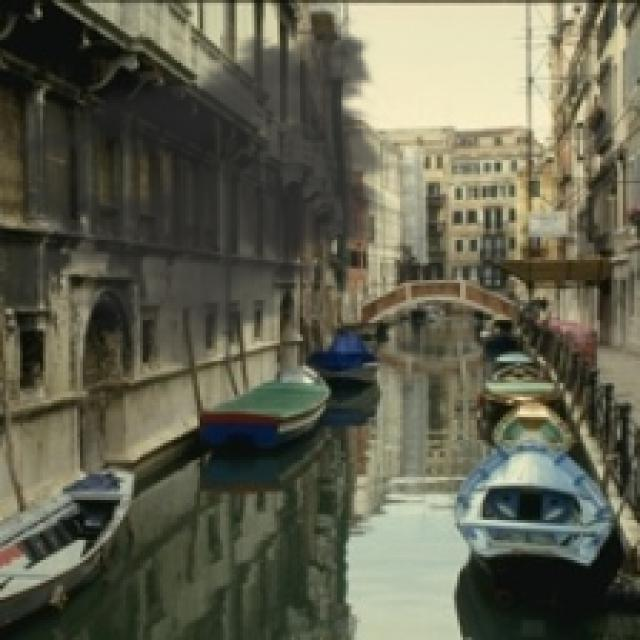Smoke: (17, 8, 406, 380)
